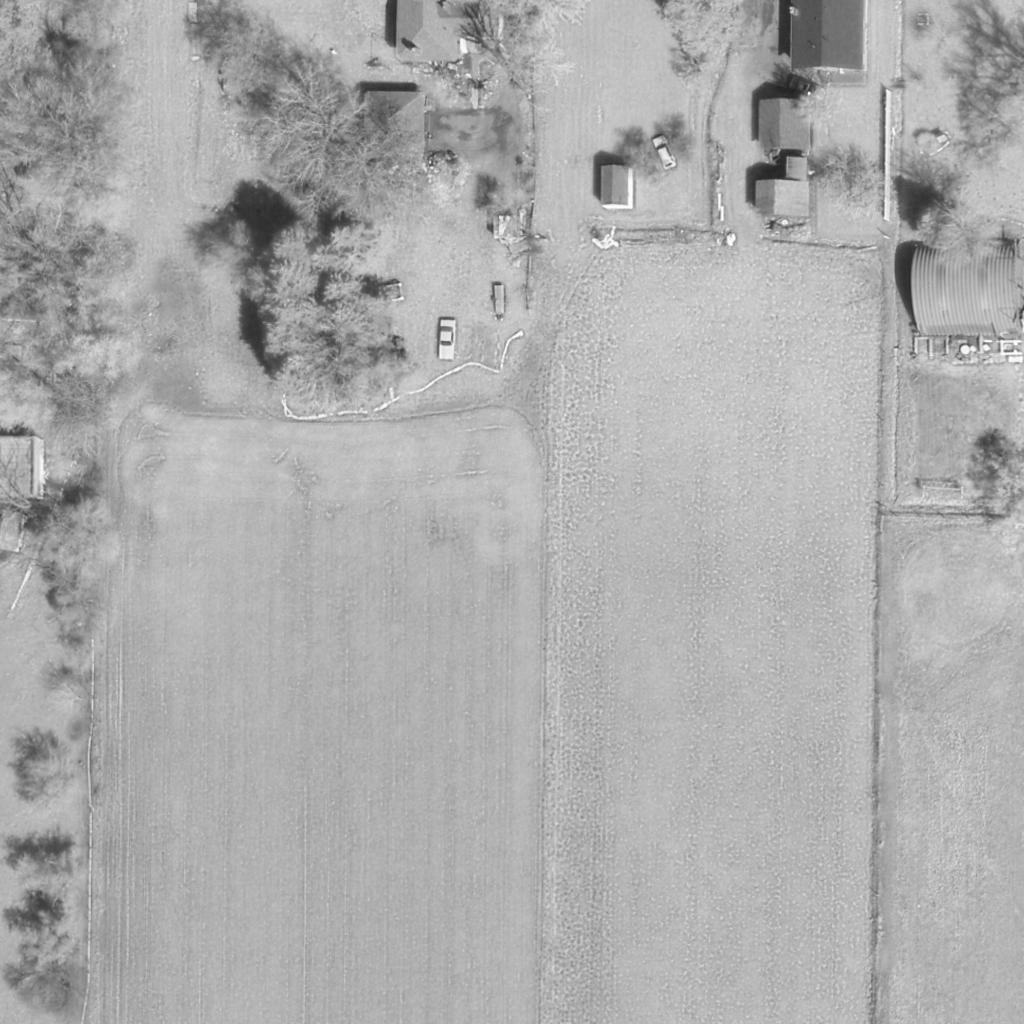vehicle: (787, 73, 831, 103), (649, 136, 681, 172), (438, 319, 456, 361)
